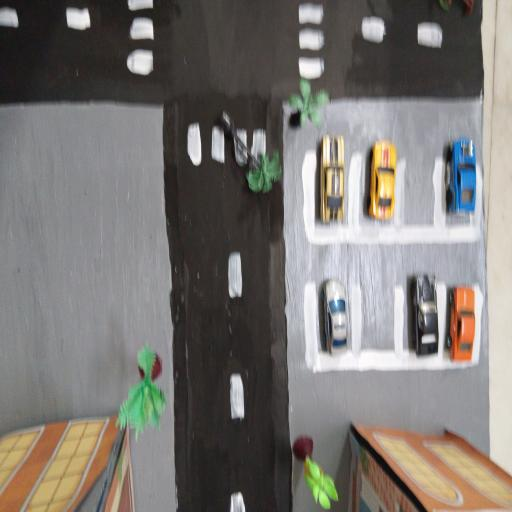fallen trees: (214, 109, 287, 208), (442, 0, 479, 26)
